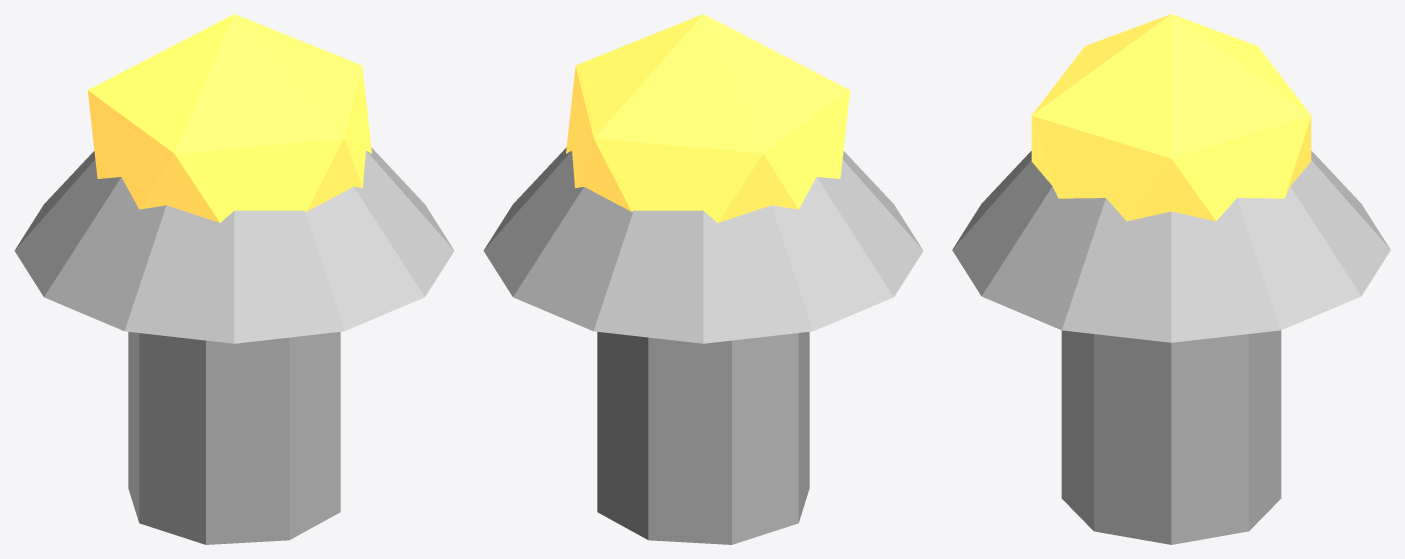
The model's file is prop_volcanic_brazier.glb.
3 views of the same model, side by side, from view 1: azimuth 30°, elevation 25°; view 2: azimuth 150°, elevation 25°; view 3: azimuth 270°, elevation 25° (orthographic).
Visible parts, largest first — view 1: prop_volcanic_brazier; view 2: prop_volcanic_brazier; view 3: prop_volcanic_brazier.
Boxes of the visible parts, x1,y1,x2,y2 form: prop_volcanic_brazier: [14, 14, 454, 544]; prop_volcanic_brazier: [483, 14, 923, 544]; prop_volcanic_brazier: [952, 14, 1390, 544].
Size of the model in its own units: 1.6 by 1.95 by 1.6.
